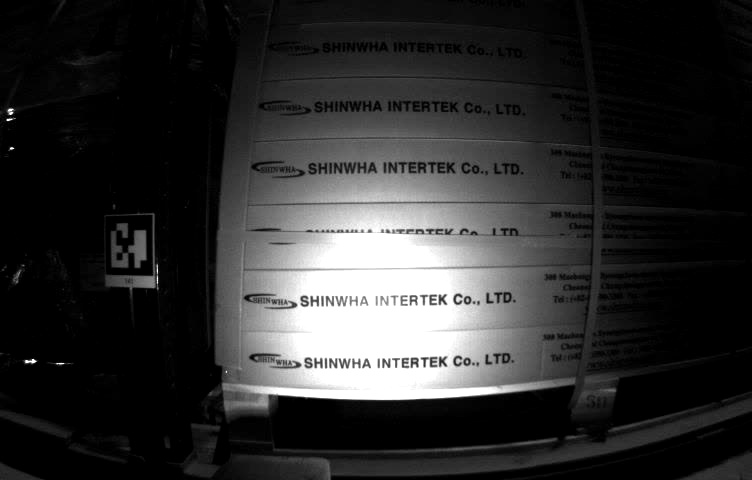True Barcode: (79, 253, 111, 295)
